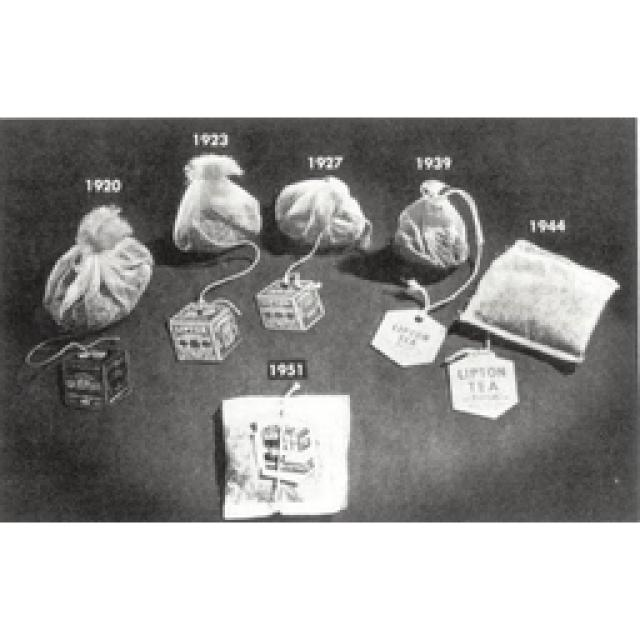tea-bags: (463, 238, 623, 363), (221, 397, 349, 519), (42, 204, 155, 335), (172, 152, 261, 254), (390, 179, 470, 269), (274, 174, 368, 248)
